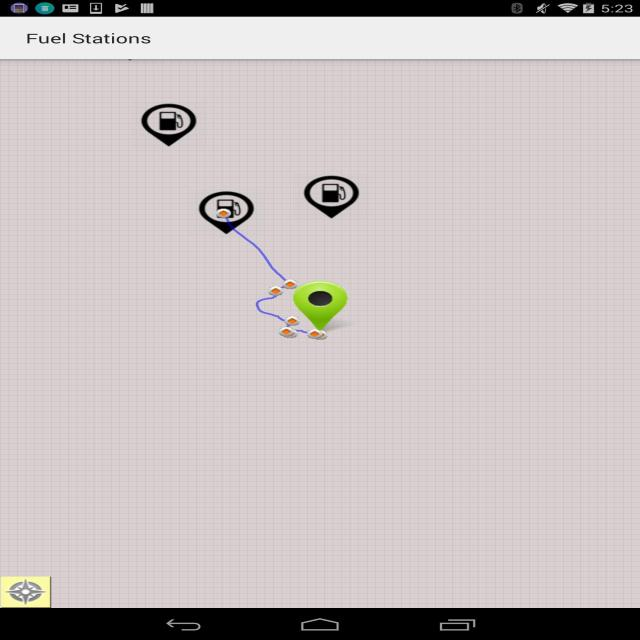button: (289, 279, 352, 340), (137, 100, 201, 150), (196, 186, 257, 238), (302, 173, 362, 221), (0, 575, 51, 608)
heading: (25, 30, 153, 51)
image: (0, 59, 640, 610)
